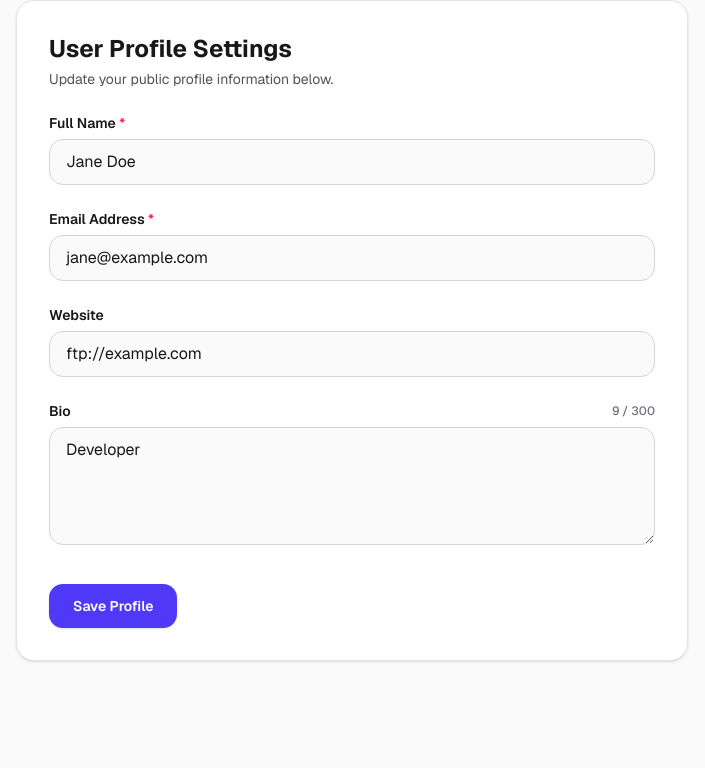
Scenario: ProfileForm Component UI & Accessibility Tests › (4) an invalid website URL (missing http/https) shows the URL error
What coordinates should you click on to do the following:
click the button "Save Profile"
I would click on:
 (113, 606)
Its box is [49,584,178,628].
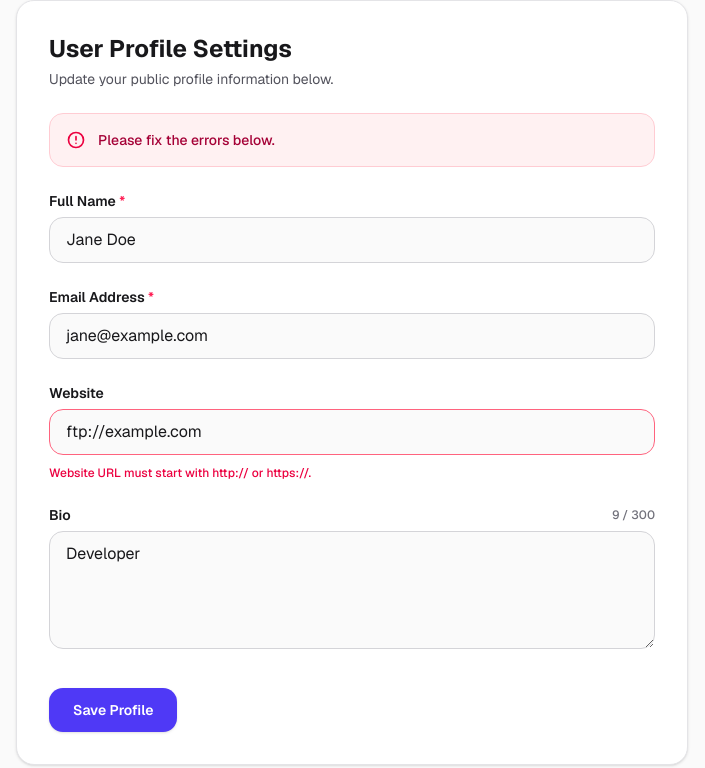
Now the text "Website URL must start with http:// or https://." is shown, box [49,465,311,481]
